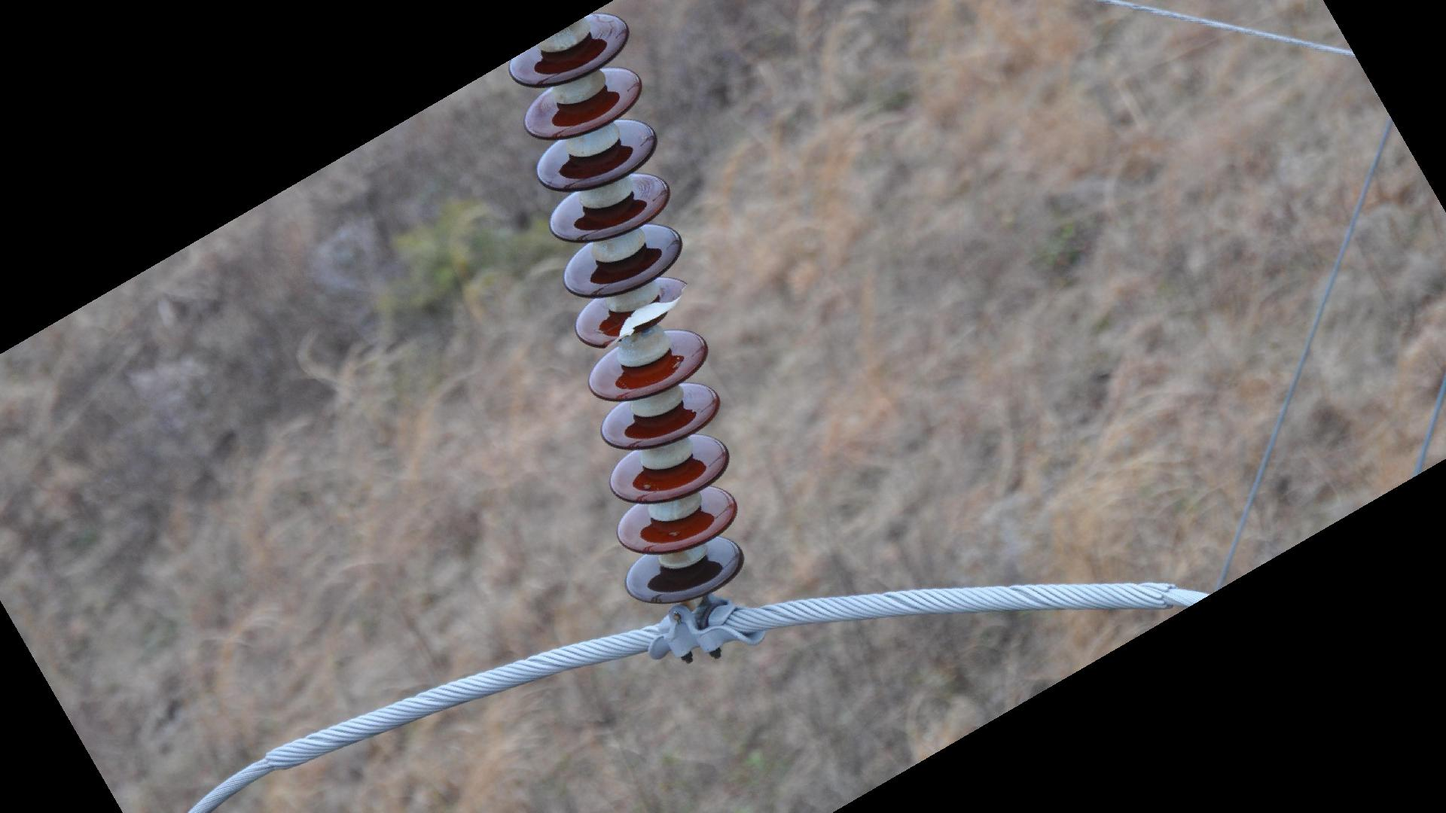insulator: (506, 7, 750, 609)
insulator_breakage: (599, 276, 693, 350)
